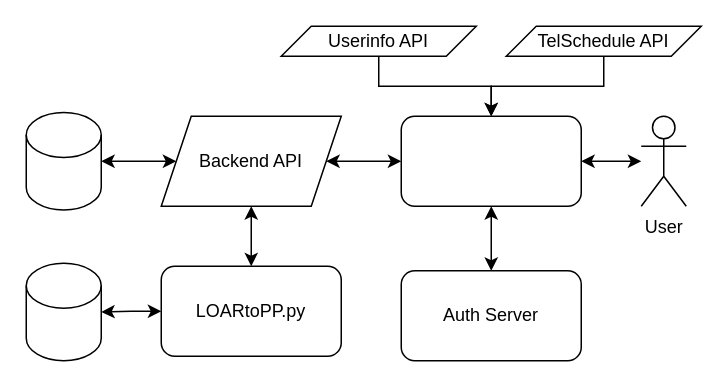
Image size: 728x387. Some labels were removed from this diagram. Each missing label, with the box of its shape:
DB: (25, 111, 101, 210)
Frontend UI: (400, 115, 581, 206)
LOAR DB: (25, 262, 101, 361)
